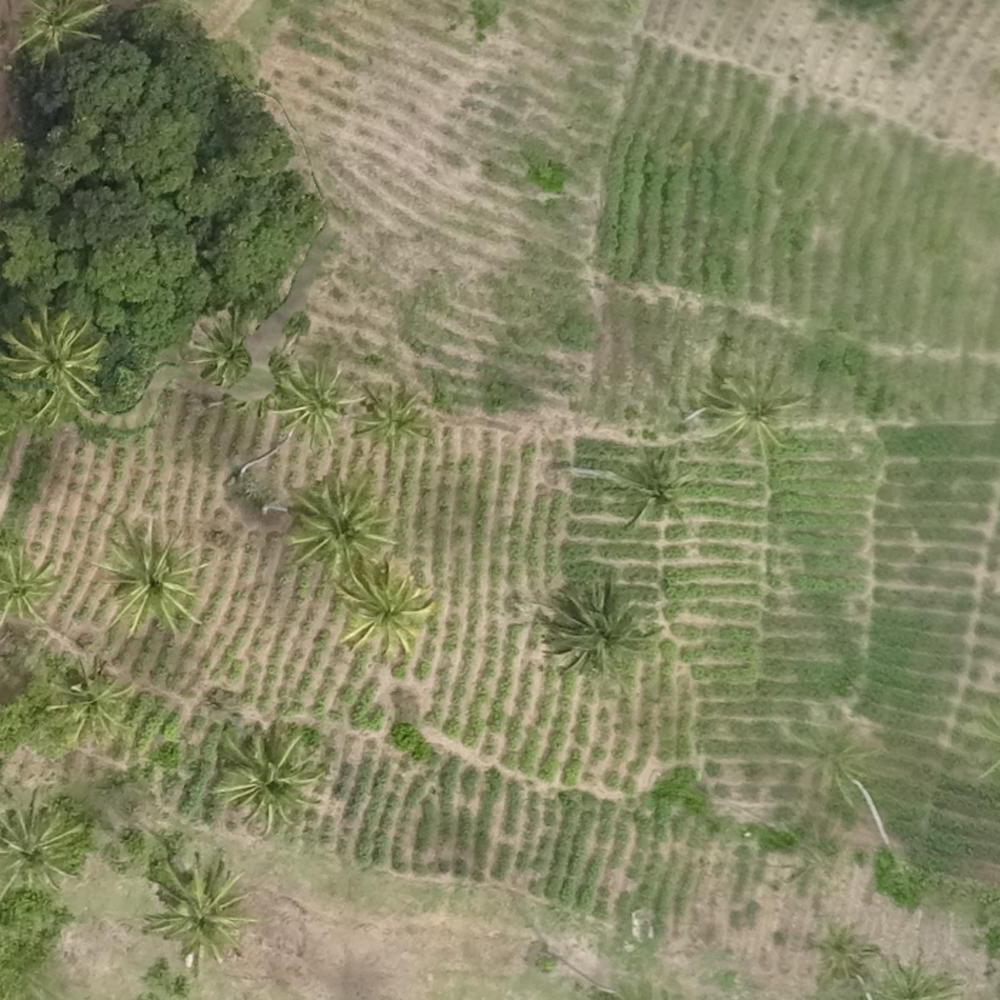Palm: (92, 521, 207, 632), (2, 309, 108, 418), (216, 724, 320, 829), (147, 860, 249, 962), (282, 475, 390, 569), (330, 564, 436, 655), (1, 796, 90, 902), (547, 580, 642, 673), (699, 368, 794, 459), (611, 444, 700, 527), (48, 658, 135, 742), (274, 362, 354, 440), (355, 382, 429, 455), (193, 312, 252, 383)
